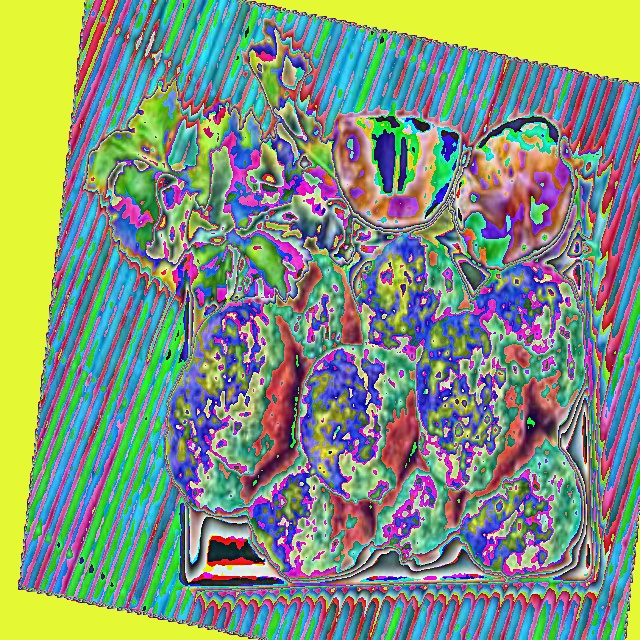background: (85, 18, 588, 580)
